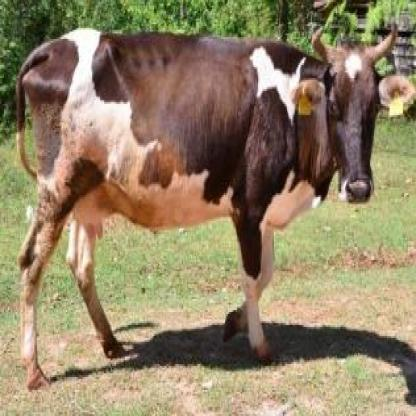cow: (21, 31, 416, 389)
